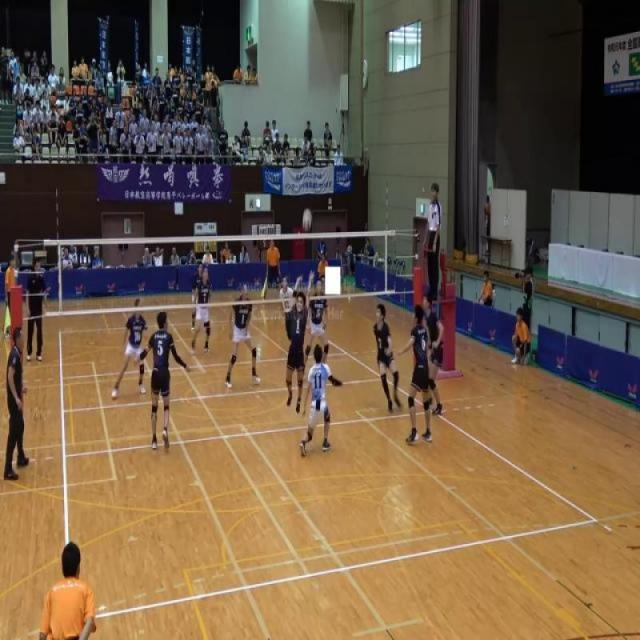volleyball: (302, 206, 312, 234)
